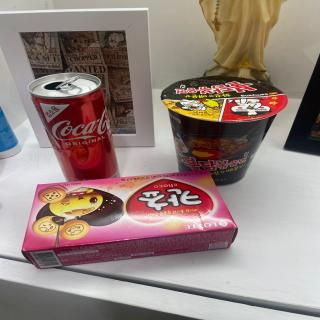cocacola: (29, 70, 125, 182)
